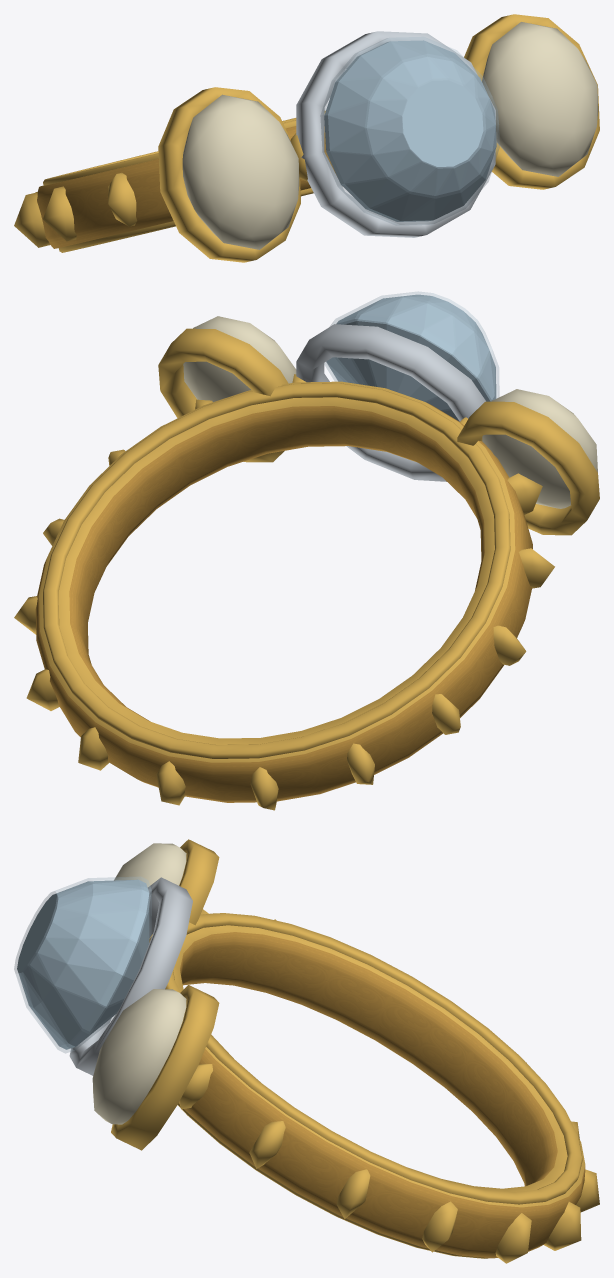
File: item_ring6.glb
3 views of the same model, one above another, from view 1: azimuth 30°, elevation 25°; view 2: azimuth 150°, elevation 25°; view 3: azimuth 270°, elevation 25° (orthographic).
Parts seen in each view (by area): view 1: jewellery_ring6, jewellery_ring6_glass; view 2: jewellery_ring6, jewellery_ring6_glass; view 3: jewellery_ring6, jewellery_ring6_glass.
Part boxes in pixels (x1,y1,x2,y2): jewellery_ring6: (14,14,599,262); jewellery_ring6_glass: (320,37,499,225); jewellery_ring6: (14,294,599,810); jewellery_ring6_glass: (324,291,499,420); jewellery_ring6: (17,839,599,1263); jewellery_ring6_glass: (14,876,151,1053).
Size of the model in its own units: 0.874 by 0.5738 by 0.9185.
Materials: 6 (1 with a texture image).
